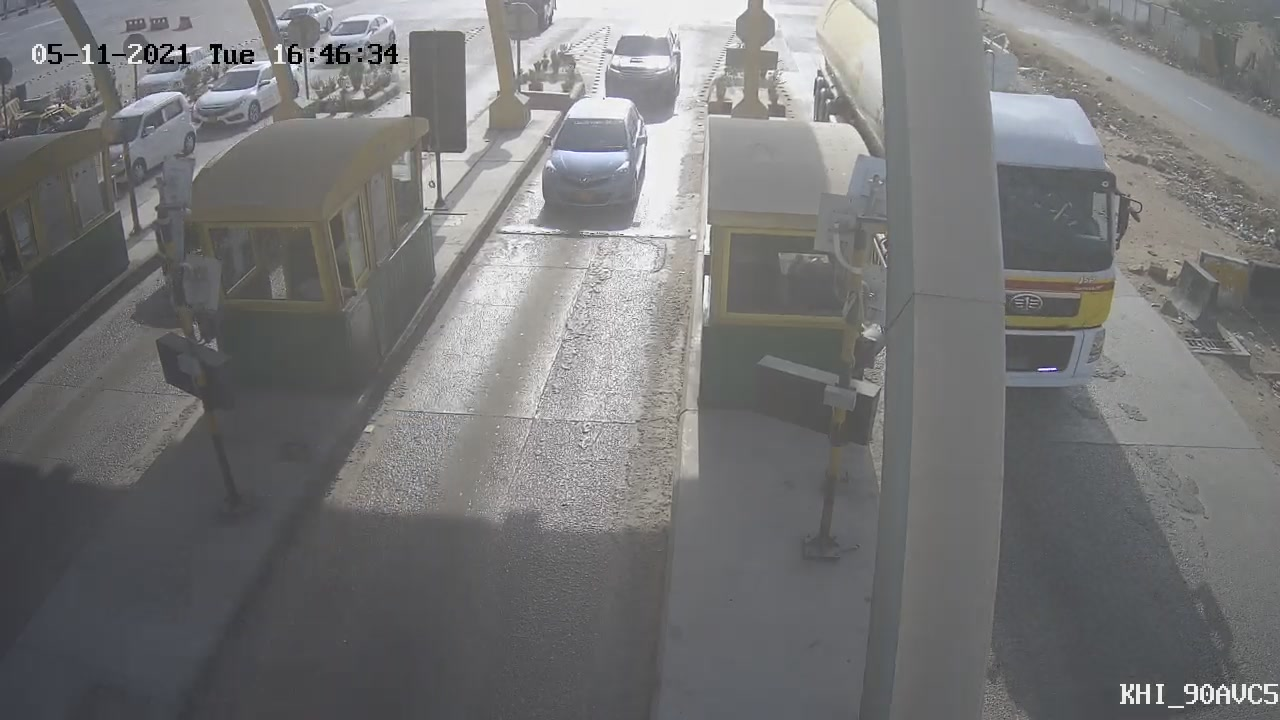F1: (520, 82, 666, 236)
